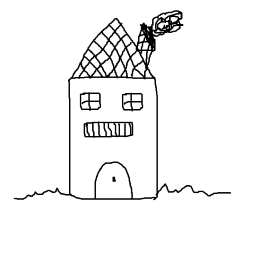closed_window: (75, 119, 141, 143), (113, 88, 150, 114), (74, 86, 103, 113)
door: (89, 156, 134, 205)
roof: (61, 19, 157, 85)
smoking_chimney: (132, 2, 194, 65)
wall: (61, 72, 161, 205)
